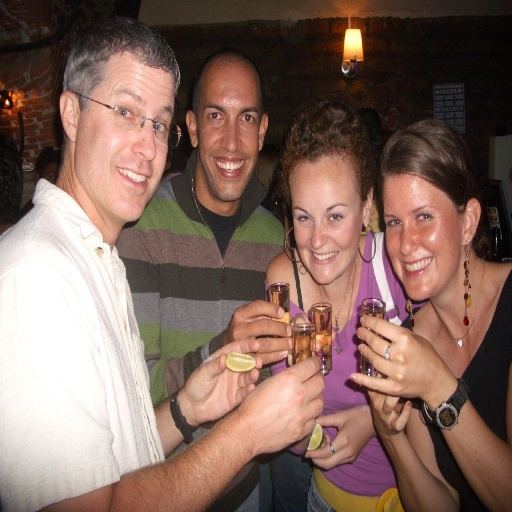hand: (352, 310, 454, 400), (240, 354, 326, 456), (184, 336, 263, 426), (222, 297, 296, 363), (302, 406, 371, 473), (365, 365, 412, 438), (285, 310, 321, 363)
